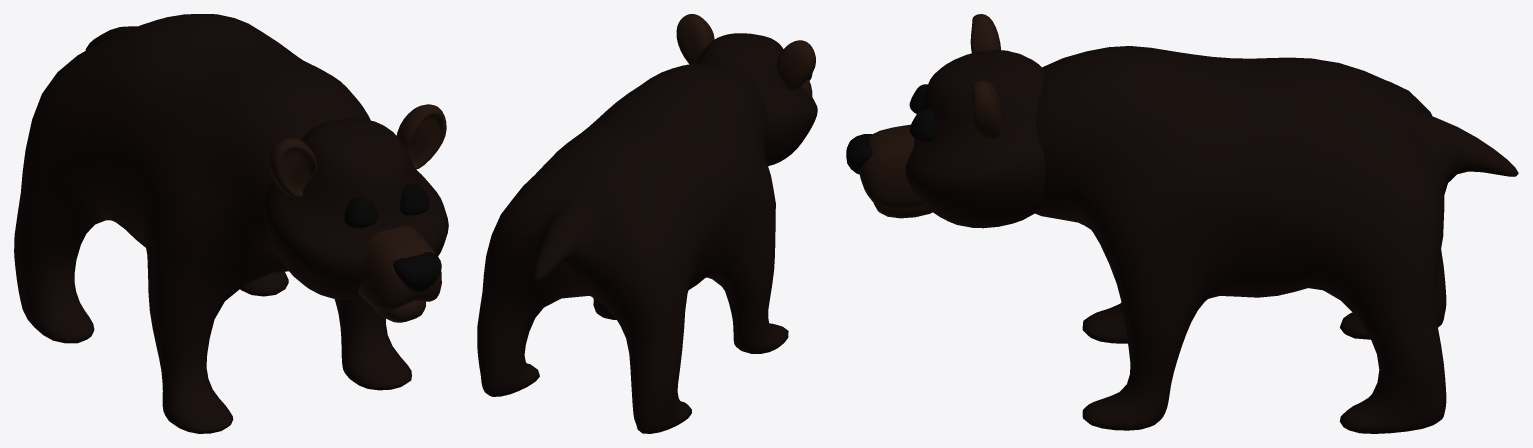
Rendered from Bear.obj.
The picture shows the model from 3 angles, left to right: view 1: azimuth 30°, elevation 25°; view 2: azimuth 150°, elevation 25°; view 3: azimuth 270°, elevation 25°; orthographic projection. The views are drawn at different scales.
Parts seen in each view (by area): view 1: Bear_RetopoFlow.002, Eyes_Bear_RetopoFlow.001; view 2: Bear_RetopoFlow.002; view 3: Bear_RetopoFlow.002, Eyes_Bear_RetopoFlow.001.
Part boxes in pixels (x1=…): Bear_RetopoFlow.002: x1=14, y1=14, x2=448, y2=433; Eyes_Bear_RetopoFlow.001: x1=344, y1=184, x2=429, y2=228; Bear_RetopoFlow.002: x1=477, y1=14, x2=817, y2=433; Bear_RetopoFlow.002: x1=846, y1=14, x2=1518, y2=433; Eyes_Bear_RetopoFlow.001: x1=909, y1=84, x2=936, y2=141.
Bounding box in the file's own units: 1.59 × 2.01 × 3.72.
